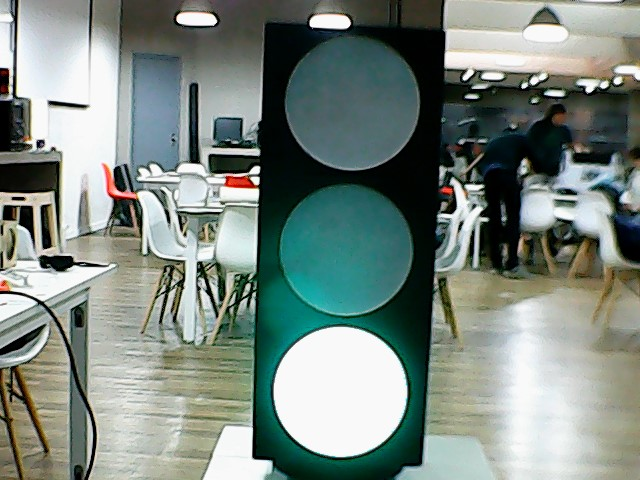verde: (246, 22, 451, 471)
